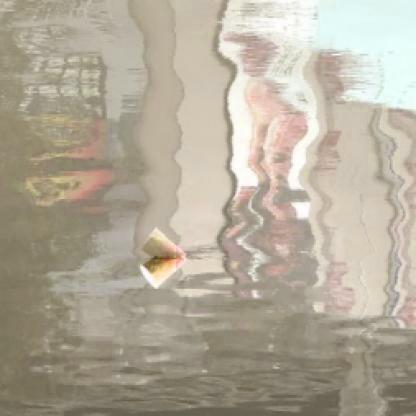Metal: (138, 255, 184, 292)
